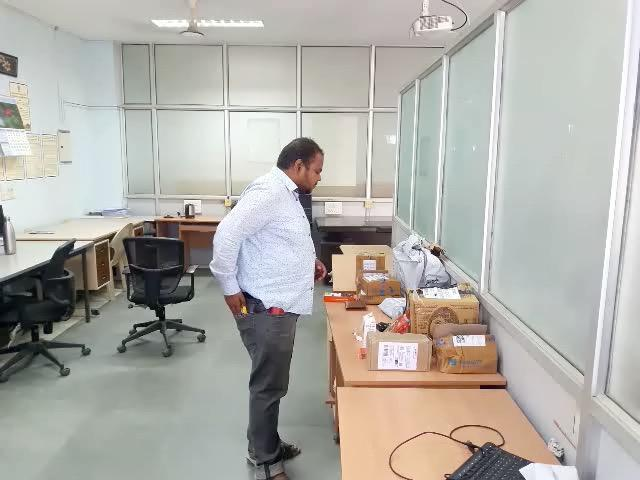shoplifting: (171, 262, 355, 379)
